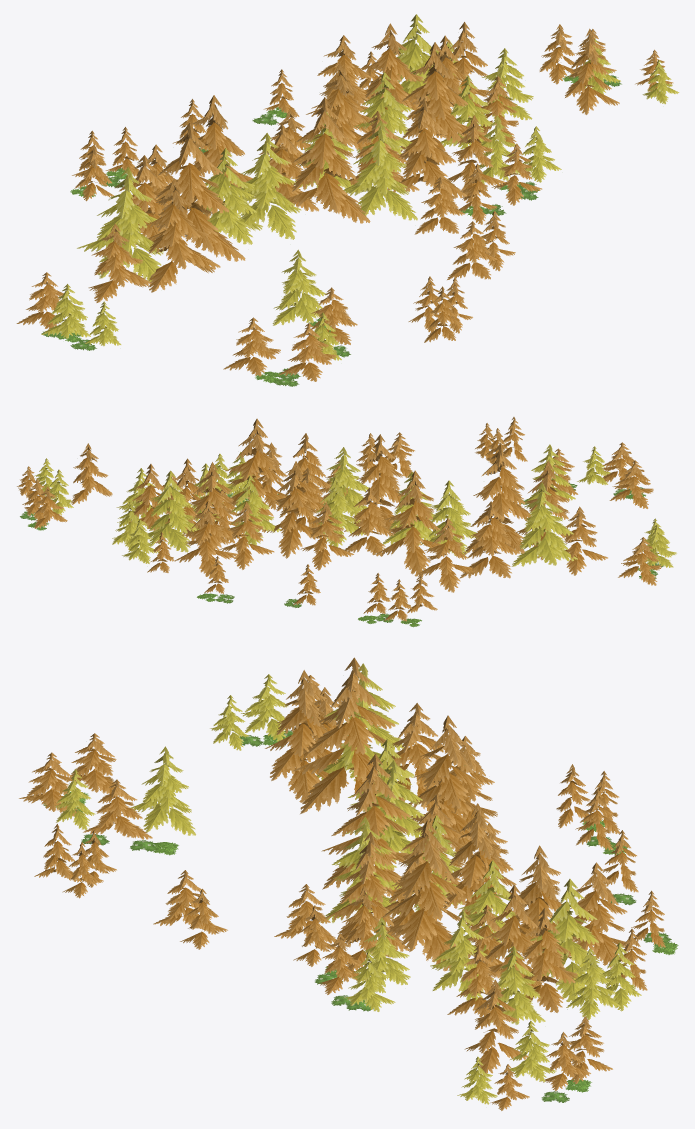
Rendered from area_12_26.fbx.
3 renders of one model, top to bottom at view 1: azimuth 30°, elevation 25°; view 2: azimuth 150°, elevation 25°; view 3: azimuth 270°, elevation 25°, orthographic. The views are drawn at different scales.
Visible parts, largest first — view 1: area_12_26; view 2: area_12_26; view 3: area_12_26.
Part boxes in pixels (left/top/right/bottom): area_12_26: left=16, top=14, right=679, bottom=386; area_12_26: left=17, top=417, right=676, bottom=627; area_12_26: left=19, top=657, right=678, bottom=1110.
Bounding box in the file's own units: 85.88 × 16.78 × 60.65.
